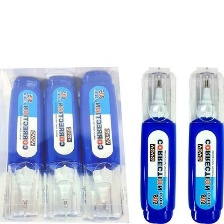correction_fluid: (77, 68, 124, 224), (41, 74, 86, 223), (2, 73, 46, 223), (136, 66, 177, 224), (185, 65, 224, 224)
plastic_box: (0, 64, 131, 224)
